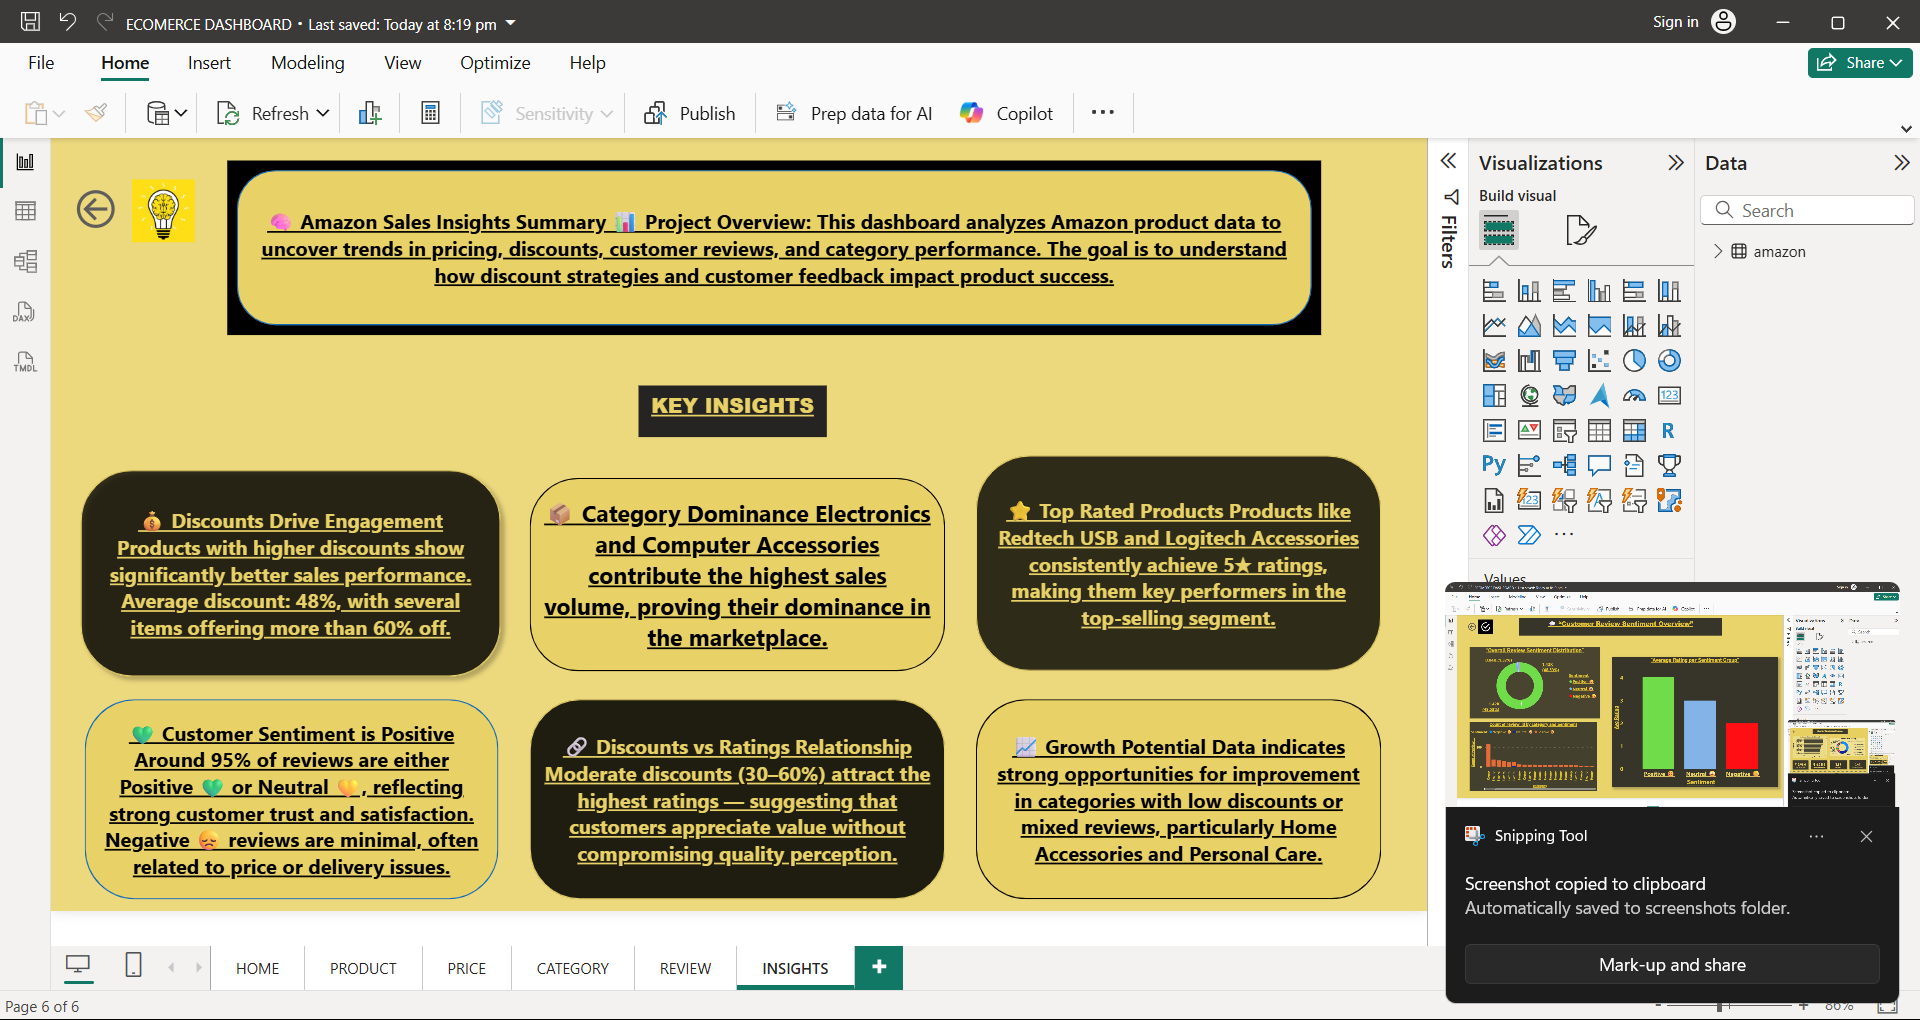

This screenshot's page, from the dashboard's own definition file:
{"tool":"powerbi","page":{"name":"INSIGHTS","canvas":[1280,720],"ordinal":5},"visuals":[{"type":"shape","box":[163.8,20.7,1017.7,162.2],"z":0},{"type":"shape","box":[19.1,300.5,408.7,209.9],"z":1000},{"type":"shape","box":[445.2,316.4,386.4,179.7],"z":2000},{"type":"shape","box":[860.3,295.8,376.9,200.4],"z":3000},{"type":"shape","box":[31.8,521.6,384.8,186],"z":4000},{"type":"shape","box":[445.2,521.6,386.4,186],"z":5000},{"type":"shape","box":[860,522,377,186],"z":6000},{"type":"textbox","box":[547,230.6,174.9,47.7],"z":7000},{"type":"actionButton","box":[19.1,42.9,100.2,46.1],"z":8000},{"type":"image","box":[70,33.4,70,68.4],"z":9000}]}

Visuals, with their boxes on the page's 1280x720 design canvas (x1, y1, x2, y2). These are canvas units, not pixel positions in the 1920x1020 screenshot, which may show the page scaled, cropped or inside an application window:
shape: {"left": 164, "top": 21, "right": 1182, "bottom": 183}
shape: {"left": 19, "top": 300, "right": 428, "bottom": 510}
shape: {"left": 445, "top": 316, "right": 832, "bottom": 496}
shape: {"left": 860, "top": 296, "right": 1237, "bottom": 496}
shape: {"left": 32, "top": 522, "right": 417, "bottom": 708}
shape: {"left": 445, "top": 522, "right": 832, "bottom": 708}
shape: {"left": 860, "top": 522, "right": 1237, "bottom": 708}
textbox: {"left": 547, "top": 231, "right": 722, "bottom": 278}
actionButton: {"left": 19, "top": 43, "right": 119, "bottom": 89}
image: {"left": 70, "top": 33, "right": 140, "bottom": 102}
